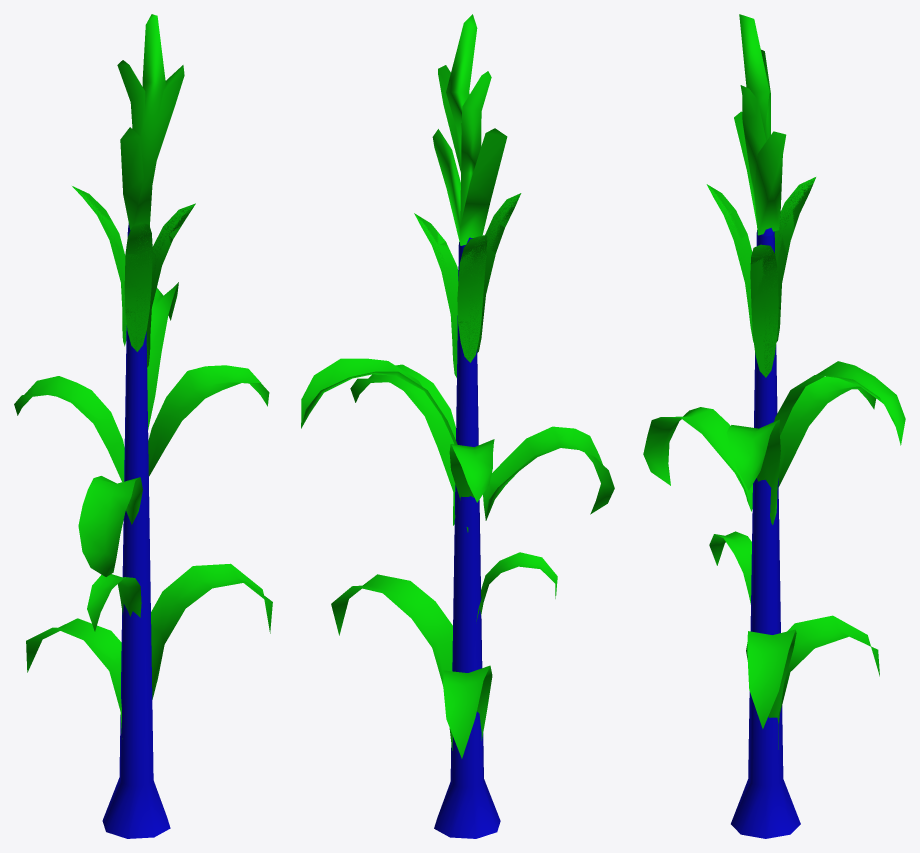
The model's file is Corn_3.fbx.
The picture shows the model from 3 angles, left to right: view 1: azimuth 30°, elevation 25°; view 2: azimuth 150°, elevation 25°; view 3: azimuth 270°, elevation 25°; orthographic projection. The views are drawn at different scales.
Parts seen in each view (by area): view 1: BSTC_Corn_3; view 2: BSTC_Corn_3; view 3: BSTC_Corn_3.
Part boxes in pixels (x1,y1,x2,y2): BSTC_Corn_3: (14, 14, 272, 838); BSTC_Corn_3: (301, 14, 614, 838); BSTC_Corn_3: (643, 14, 905, 838).
Bounding box in the file's own units: 33.16 × 110 × 32.16.
